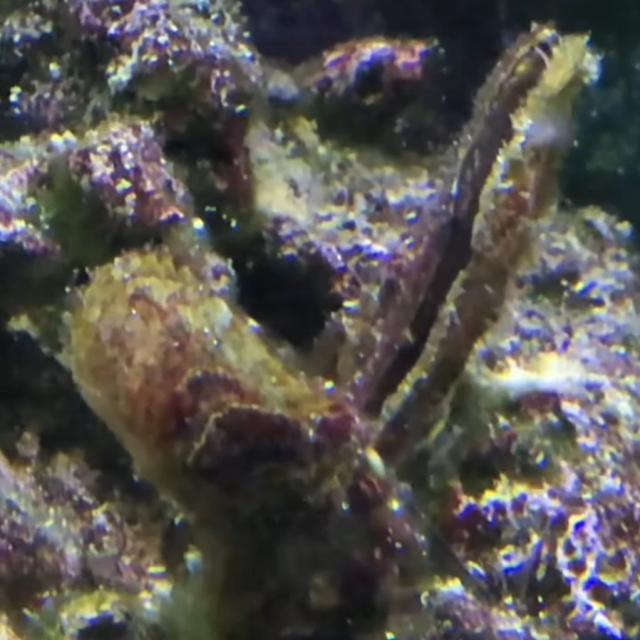Oyster-Indeterminate: (62, 252, 396, 594)
Oyster-Open: (309, 26, 599, 470)
